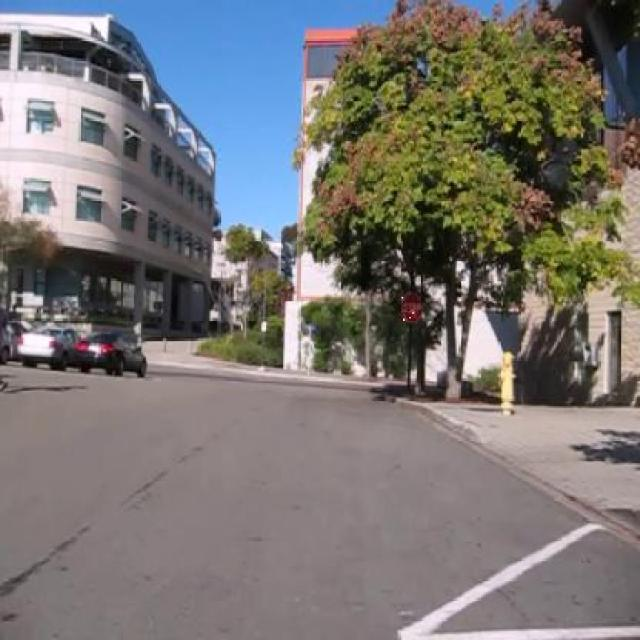stop: (398, 292, 422, 323)
